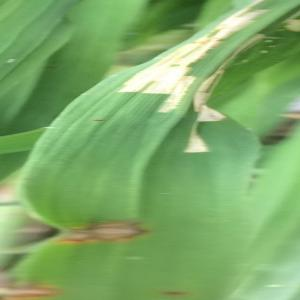Rice_Blast: (39, 208, 155, 260)
